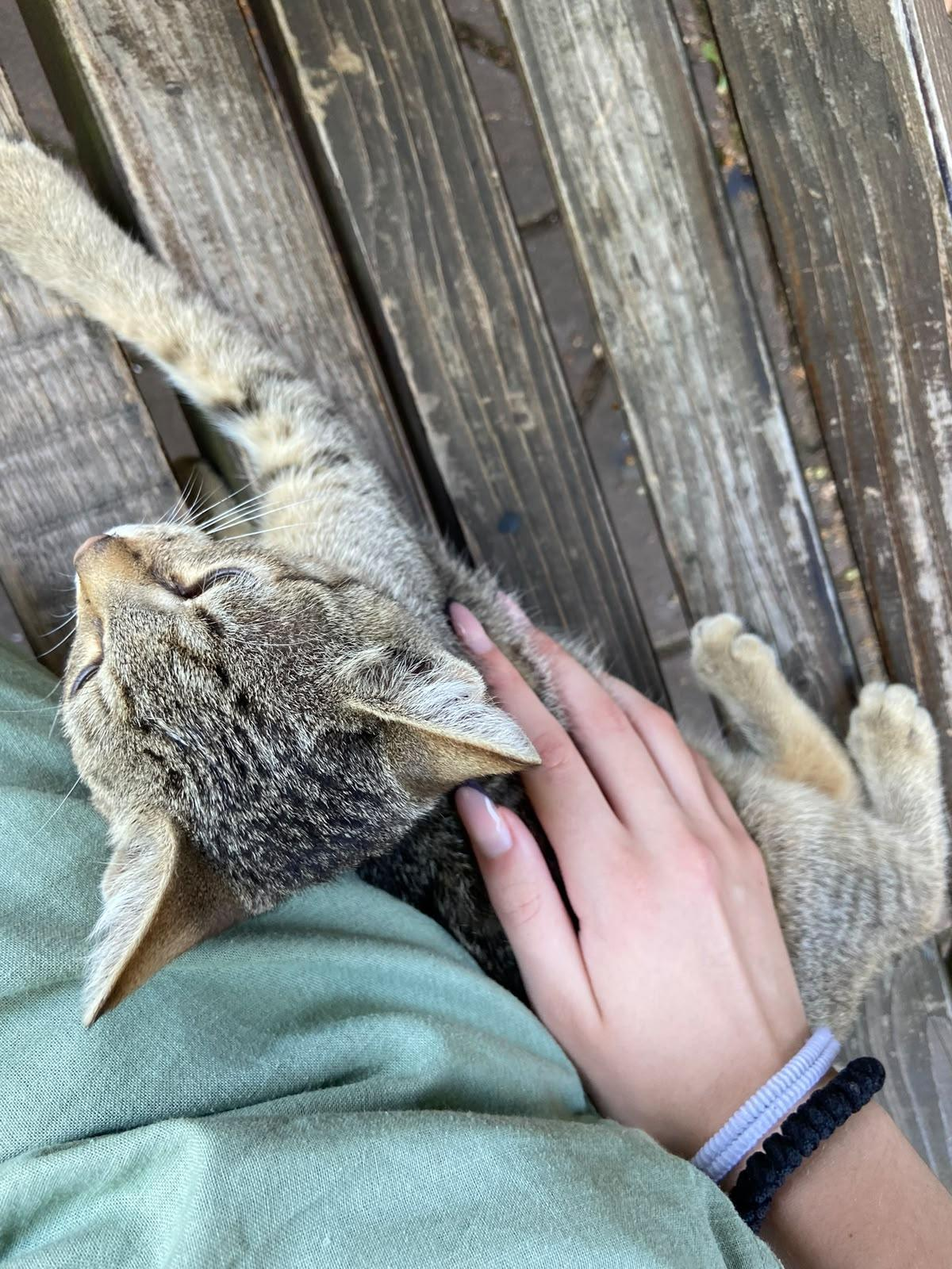macka: (0, 142, 949, 1050)
